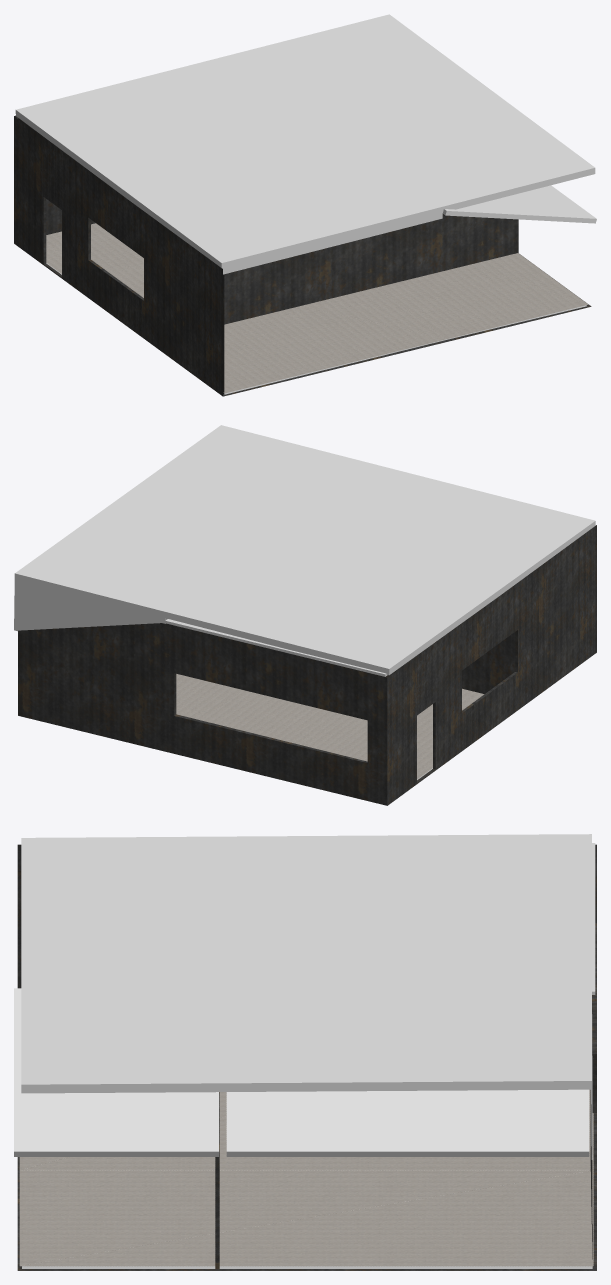
3 views of the same model, one above another, from view 1: azimuth 30°, elevation 25°; view 2: azimuth 150°, elevation 25°; view 3: azimuth 270°, elevation 25° (orthographic). The views are drawn at different scales.
Visible parts, largest first — view 1: Cubo.004, Office, Cubo.001, Cubo; view 2: Cubo.004, Office, Cubo.005, Cubo.002; view 3: Cubo.004, Office, Cubo.003, Cubo.001, Cubo.002.
Part boxes in pixels (x1,y1,x2,y2): Cubo.004: (15,14,595,268); Office: (14,115,591,396); Cubo.001: (442,185,596,223); Cubo: (223,213,442,274); Cubo.004: (14,425,595,675); Office: (18,525,596,805); Cubo.005: (14,580,165,631); Cubo.002: (165,619,387,676); Cubo.004: (21,834,591,1093); Office: (17,844,596,1270); Cubo.003: (226,1089,589,1156); Cubo.001: (14,988,218,1156); Cubo.002: (592,843,595,994).
Size of the model in its own units: 1174 by 418 by 1143.
